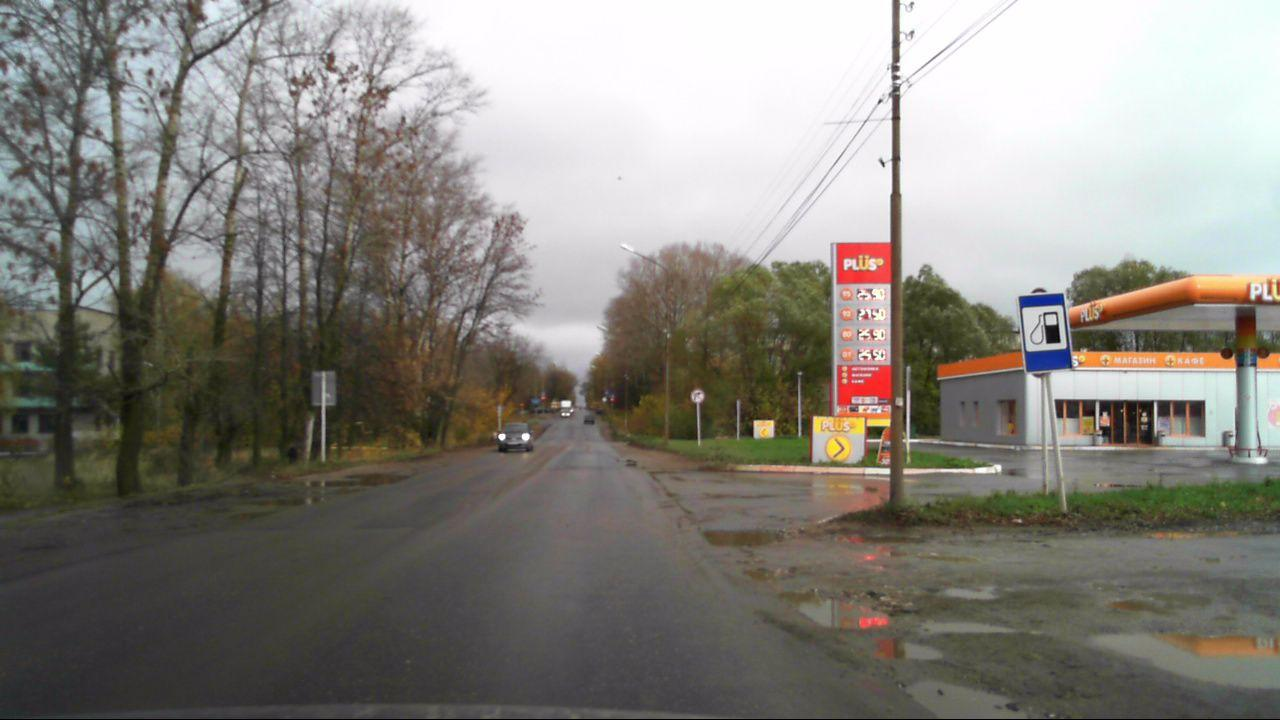road_sign: (1017, 292, 1073, 374), (689, 388, 705, 404)
